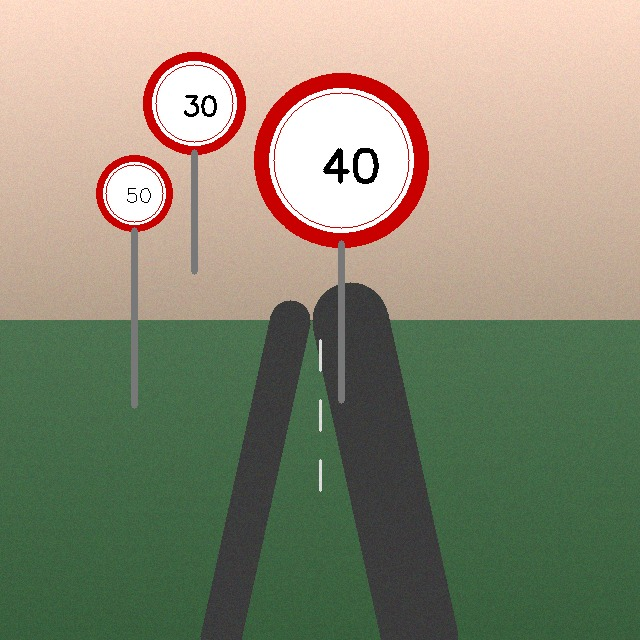velocidad: (259, 78, 424, 243), (145, 54, 243, 152), (97, 156, 171, 230)
